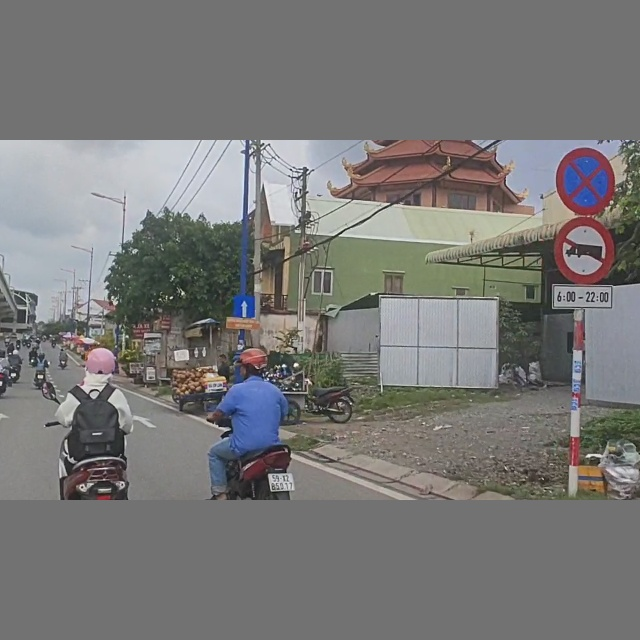B.8a: (554, 217, 614, 285)
I.407a: (233, 295, 257, 319)
P.130: (557, 148, 614, 215)
